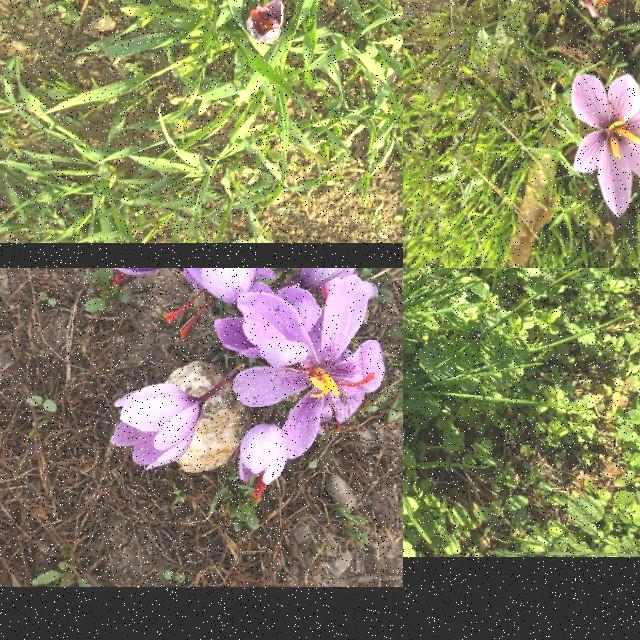flower: (232, 274, 386, 460), (572, 74, 640, 219), (111, 384, 201, 472), (163, 268, 257, 340), (238, 420, 288, 502), (297, 268, 373, 291), (247, 0, 285, 44), (96, 268, 176, 284)
overlap: (197, 268, 387, 460)
